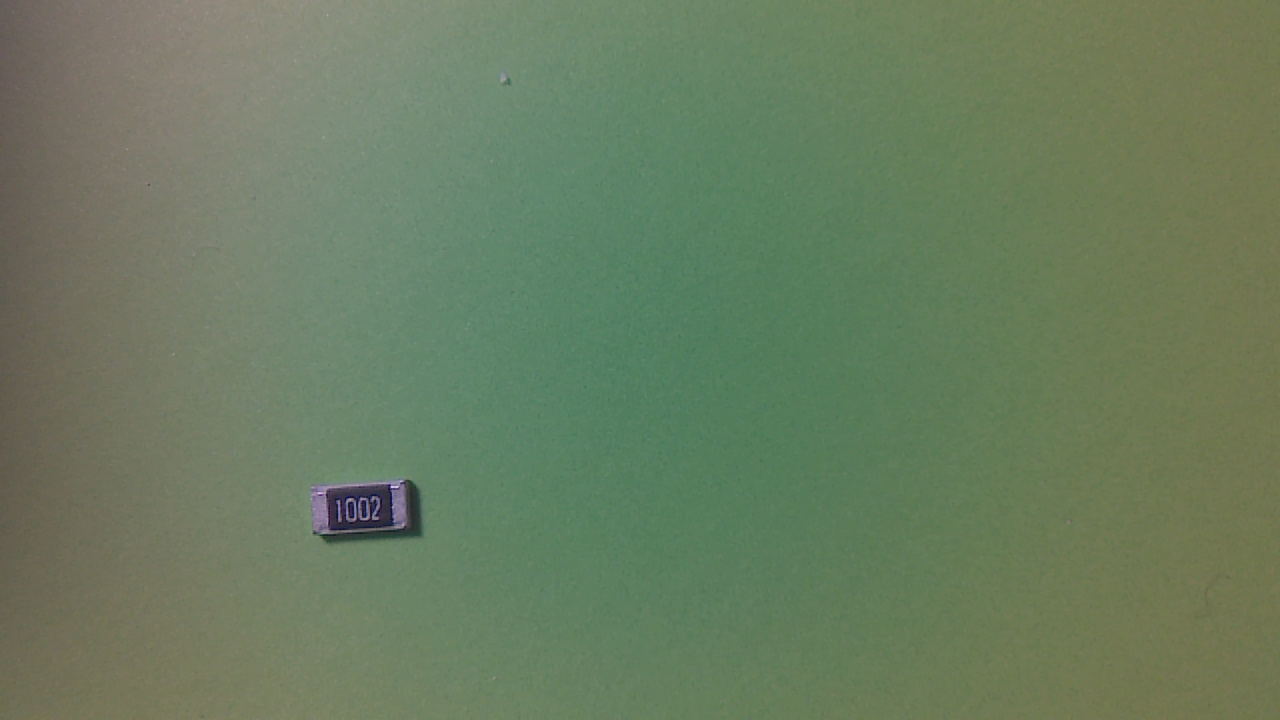Resistor: (309, 483, 427, 548)
